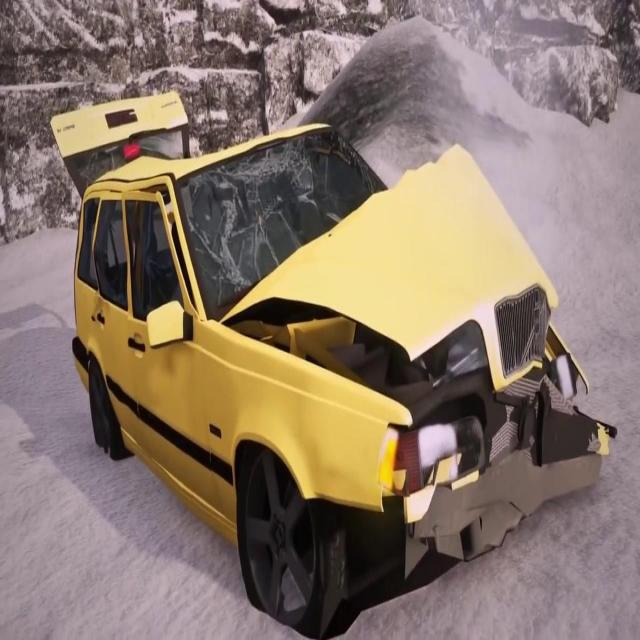accident: (45, 84, 615, 631)
